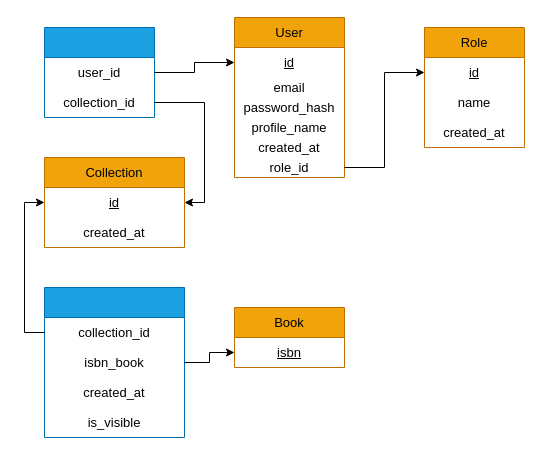
This 542x455 diagram has some shape labels left out. The shapes that lost their labels are listed below. From the top down, each one's box as (x1, y1, x2, y2) in pixels, then its label:
(44, 26, 154, 118): OWN
(44, 286, 184, 438): CONTAIN
